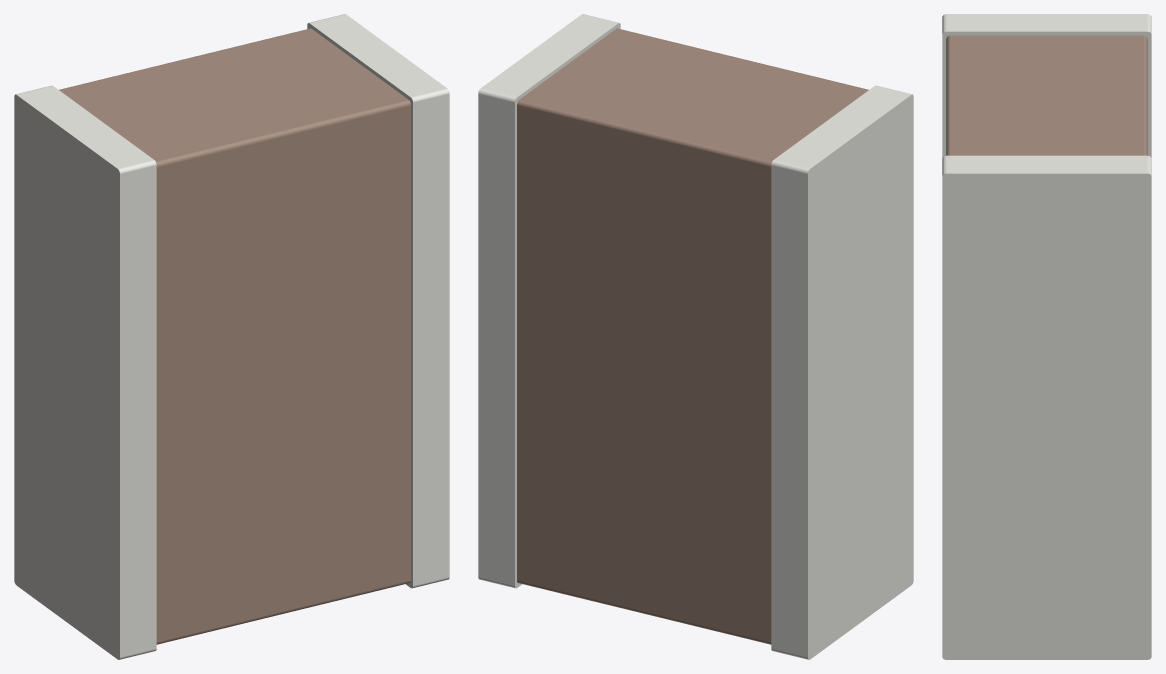
File: C_1825_4564Metric.glb
The picture shows the model from 3 angles, left to right: view 1: azimuth 30°, elevation 25°; view 2: azimuth 150°, elevation 25°; view 3: azimuth 270°, elevation 25°; orthographic projection.
Visible parts, largest first — view 1: Shape_IndexedFaceSet.015, Shape_IndexedFaceSet, Shape_IndexedFaceSet.013, Shape_IndexedFaceSet.005, Shape_IndexedFaceSet.023, Shape_IndexedFaceSet.026, Shape_IndexedFaceSet.008, Shape_IndexedFaceSet.014, Shape_IndexedFaceSet.018, Shape_IndexedFaceSet.016; view 2: Shape_IndexedFaceSet.011, Shape_IndexedFaceSet, Shape_IndexedFaceSet.013, Shape_IndexedFaceSet.004, Shape_IndexedFaceSet.022, Shape_IndexedFaceSet.026, Shape_IndexedFaceSet.008, Shape_IndexedFaceSet.012, Shape_IndexedFaceSet.018, Shape_IndexedFaceSet.010; view 3: Shape_IndexedFaceSet.027, Shape_IndexedFaceSet.013, Shape_IndexedFaceSet.026, Shape_IndexedFaceSet.008, Shape_IndexedFaceSet.009, Shape_IndexedFaceSet.012, Shape_IndexedFaceSet.014.
Boxes of the visible parts, x1=… form: Shape_IndexedFaceSet.015: x1=156, y1=105, x2=410, y2=642; Shape_IndexedFaceSet: x1=14, y1=94, x2=119, y2=659; Shape_IndexedFaceSet.013: x1=59, y1=28, x2=408, y2=161; Shape_IndexedFaceSet.005: x1=120, y1=165, x2=156, y2=657; Shape_IndexedFaceSet.023: x1=413, y1=94, x2=449, y2=585; Shape_IndexedFaceSet.026: x1=310, y1=14, x2=446, y2=97; Shape_IndexedFaceSet.008: x1=17, y1=86, x2=153, y2=168; Shape_IndexedFaceSet.014: x1=156, y1=100, x2=410, y2=167; Shape_IndexedFaceSet.018: x1=307, y1=23, x2=412, y2=588; Shape_IndexedFaceSet.016: x1=156, y1=580, x2=410, y2=644; Shape_IndexedFaceSet.011: x1=517, y1=105, x2=771, y2=642; Shape_IndexedFaceSet: x1=808, y1=94, x2=913, y2=659; Shape_IndexedFaceSet.013: x1=519, y1=28, x2=868, y2=161; Shape_IndexedFaceSet.004: x1=771, y1=165, x2=807, y2=657; Shape_IndexedFaceSet.022: x1=478, y1=94, x2=514, y2=585; Shape_IndexedFaceSet.026: x1=481, y1=14, x2=618, y2=97; Shape_IndexedFaceSet.008: x1=774, y1=86, x2=910, y2=168; Shape_IndexedFaceSet.012: x1=517, y1=100, x2=771, y2=166; Shape_IndexedFaceSet.018: x1=515, y1=23, x2=620, y2=588; Shape_IndexedFaceSet.010: x1=517, y1=580, x2=771, y2=644; Shape_IndexedFaceSet.027: x1=942, y1=173, x2=1151, y2=659; Shape_IndexedFaceSet.013: x1=950, y1=35, x2=1143, y2=155; Shape_IndexedFaceSet.026: x1=946, y1=155, x2=1147, y2=173; Shape_IndexedFaceSet.008: x1=946, y1=14, x2=1147, y2=31; Shape_IndexedFaceSet.009: x1=942, y1=31, x2=1151, y2=157; Shape_IndexedFaceSet.012: x1=1143, y1=35, x2=1147, y2=155; Shape_IndexedFaceSet.014: x1=946, y1=35, x2=950, y2=155.
Bounding box in the file's own units: 1.77 × 2.52 × 0.984.
